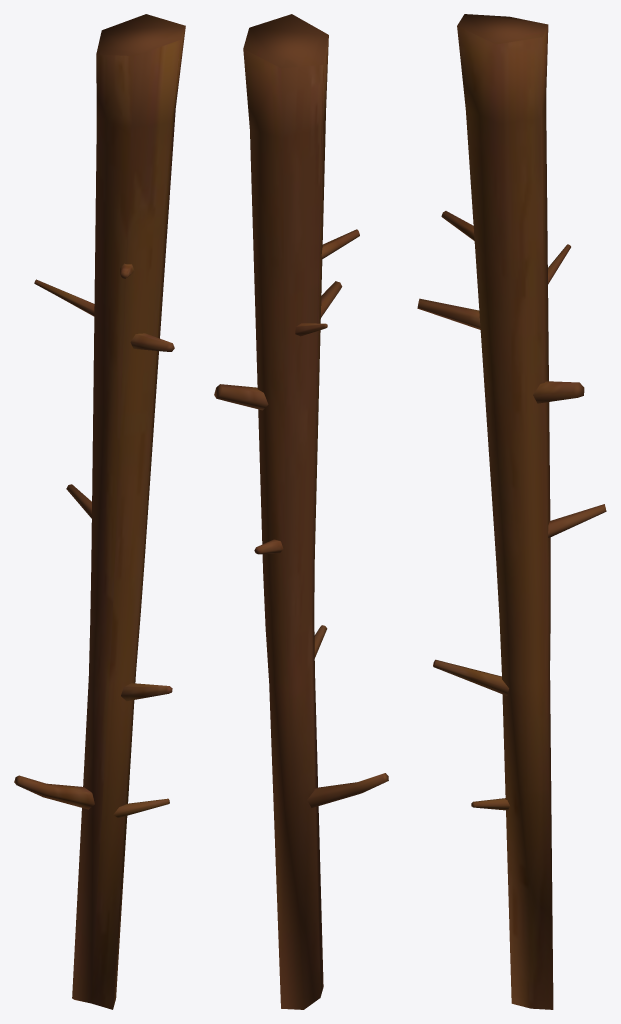
The model's file is STPine7.glb.
The picture shows the model from 3 angles, left to right: view 1: azimuth 30°, elevation 25°; view 2: azimuth 150°, elevation 25°; view 3: azimuth 270°, elevation 25°; orthographic projection. The views are drawn at different scales.
Visible parts, largest first — view 1: STPine7_Trunk; view 2: STPine7_Trunk; view 3: STPine7_Trunk.
Part boxes in pixels (x1=…): STPine7_Trunk: x1=14, y1=14, x2=185, y2=1009; STPine7_Trunk: x1=214, y1=14, x2=388, y2=1009; STPine7_Trunk: x1=417, y1=14, x2=606, y2=1009.
Size of the model in its own units: 1.41 by 8.46 by 1.45.
1 material, 1 textured.
